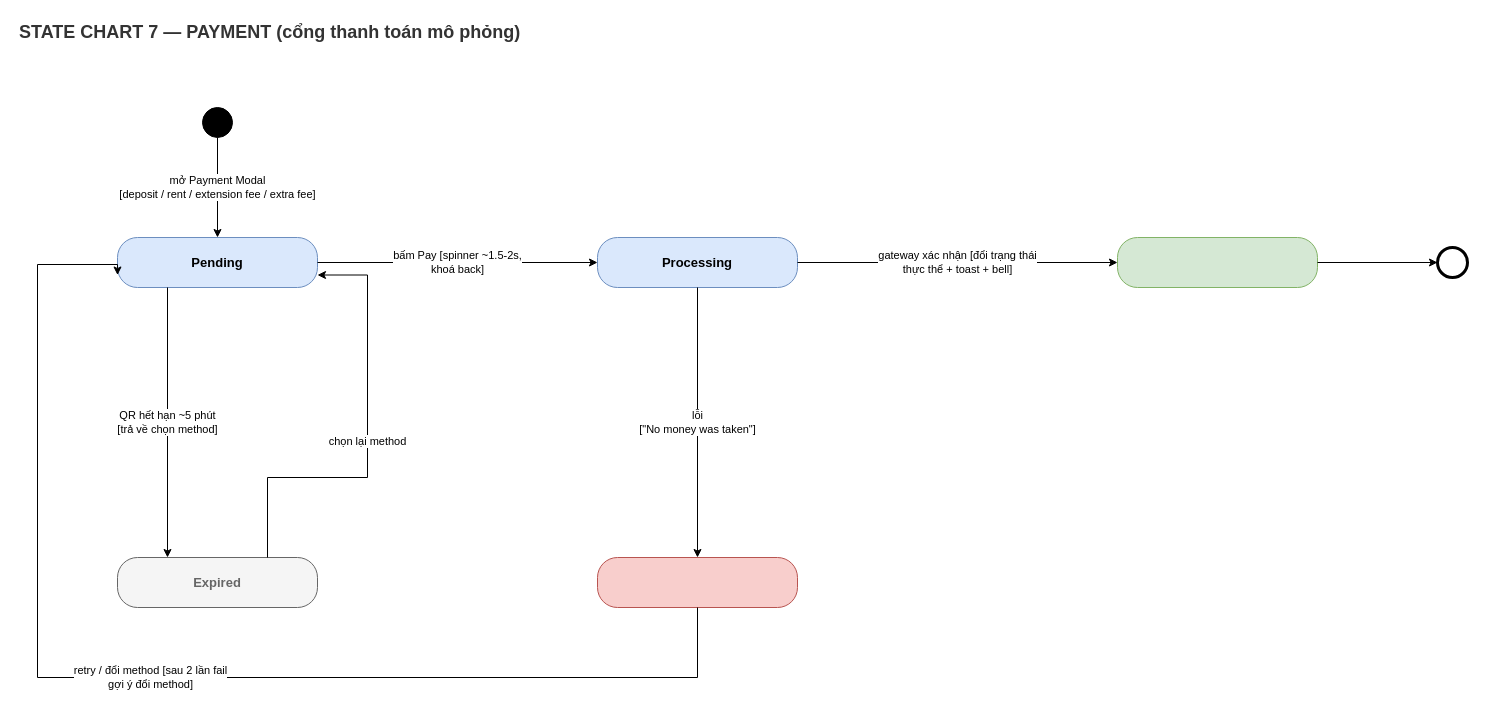
This 1486x707 diagram has some shape labels left out. The centre of each missing label's shape, as x and y in pixels:
"Failed" goes at (697,582).
"Succeeded" goes at (1217,262).
